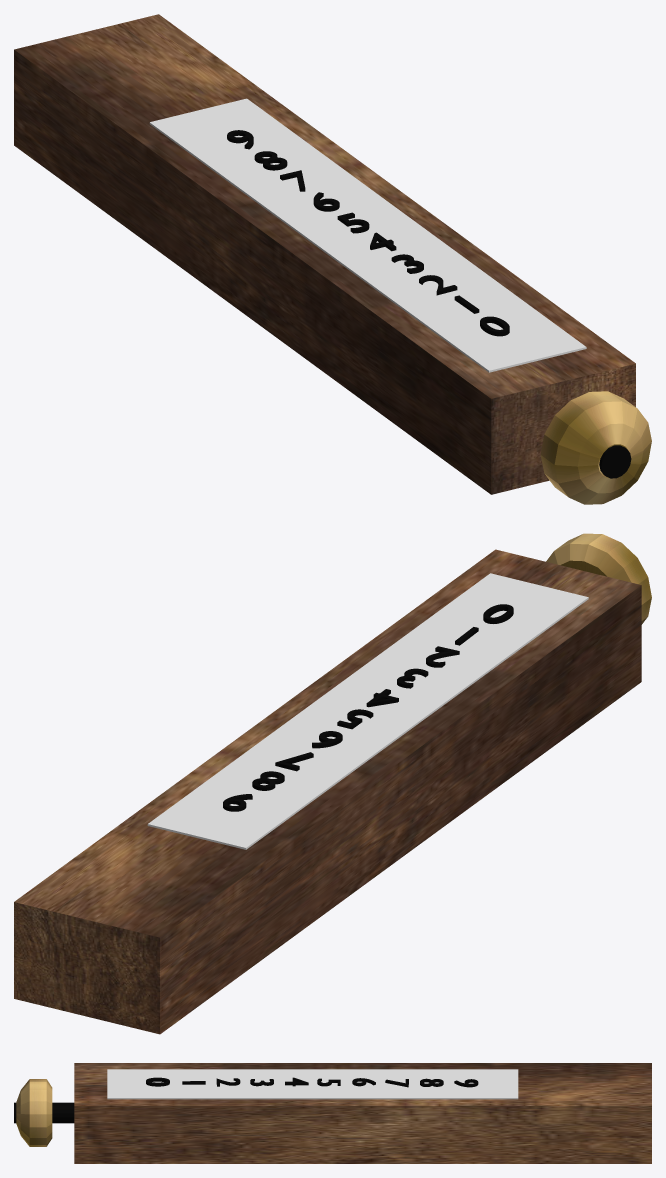
The model's file is tirette.dae.
3 views of the same model, one above another, from view 1: azimuth 30°, elevation 25°; view 2: azimuth 150°, elevation 25°; view 3: azimuth 270°, elevation 25° (orthographic). The views are drawn at different scales.
Parts seen in each view (by area): view 1: Support, supportblanc, Cylinder, VisNoir; view 2: Support, supportblanc, Cylinder; view 3: Support, supportblanc, Cylinder, VisNoir, 0, 8.
Boxes of the visible parts, x1,y1,x2,y2 form: Support: [14, 14, 635, 494]; supportblanc: [149, 98, 586, 372]; Cylinder: [540, 391, 651, 504]; VisNoir: [599, 445, 631, 478]; Support: [14, 549, 641, 1034]; supportblanc: [147, 573, 588, 849]; Cylinder: [546, 533, 651, 624]; Support: [74, 1063, 651, 1163]; supportblanc: [107, 1069, 518, 1099]; Cylinder: [16, 1079, 52, 1146]; VisNoir: [14, 1102, 74, 1123]; 0: [146, 1077, 169, 1086]; 8: [420, 1078, 443, 1086].
Bounding box in the file's own units: 2.97 × 18.73 × 2.02.
5 materials, 2 textured.
